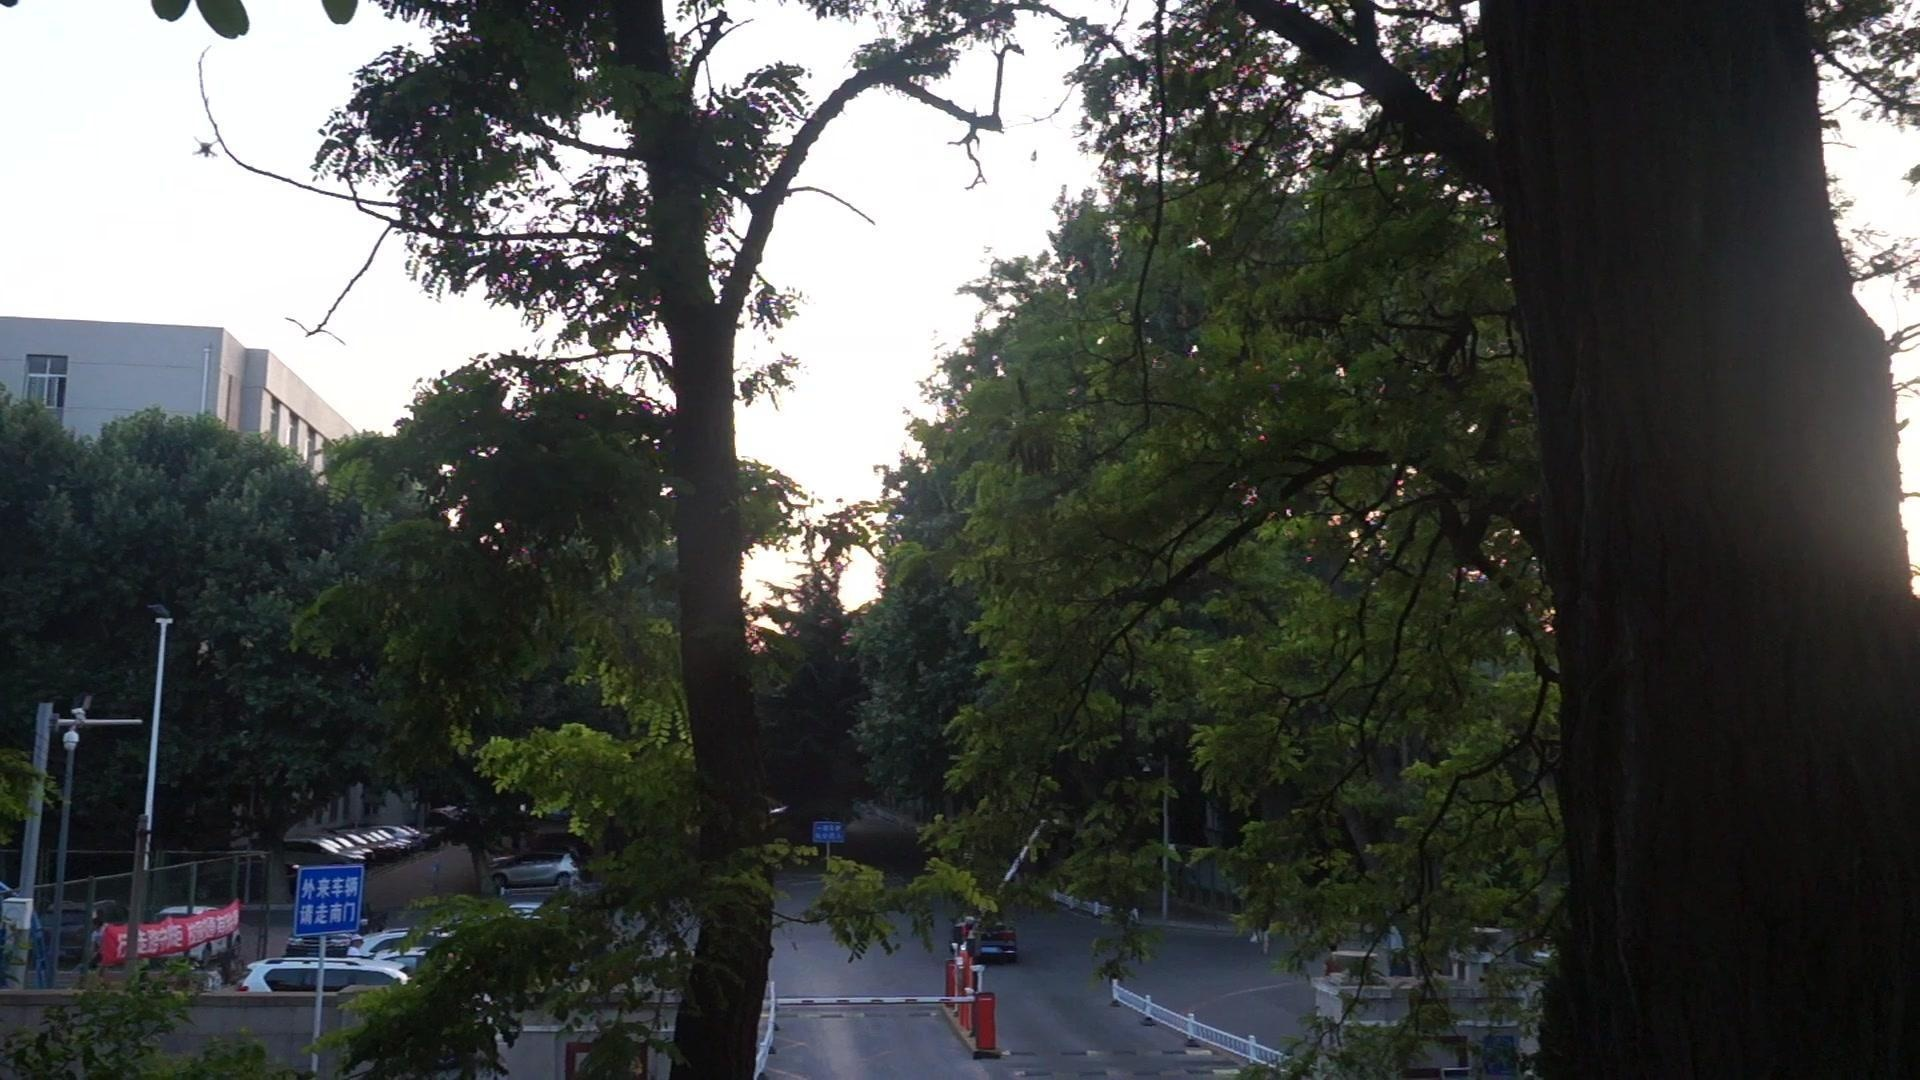UAV: (193, 136, 220, 160)
